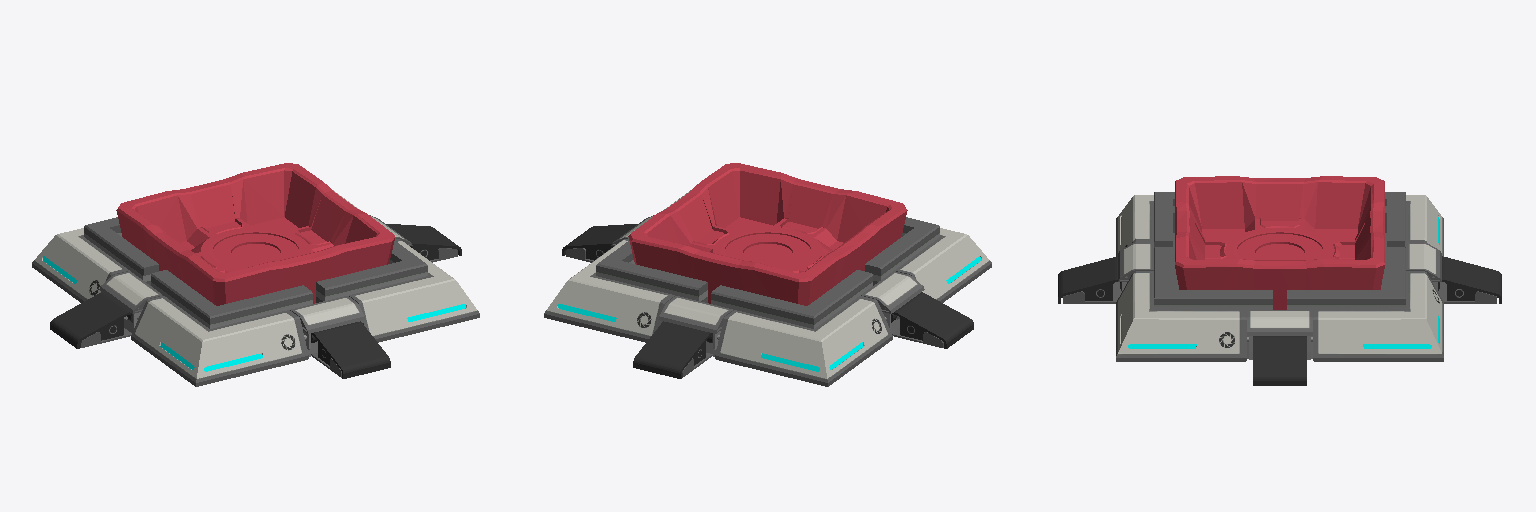
The picture shows the model from 3 angles: view 1: azimuth 30°, elevation 25°; view 2: azimuth 150°, elevation 25°; view 3: azimuth 270°, elevation 25°; orthographic projection.
Parts seen in each view (by area): view 1: Body.dmx/box_socket_model.dmx.mesh_0; view 2: Body.dmx/box_socket_model.dmx.mesh_0; view 3: Body.dmx/box_socket_model.dmx.mesh_0.
Boxes of the visible parts, x1,y1,x2,y2 form: Body.dmx/box_socket_model.dmx.mesh_0: [32, 163, 479, 386]; Body.dmx/box_socket_model.dmx.mesh_0: [544, 163, 991, 386]; Body.dmx/box_socket_model.dmx.mesh_0: [1058, 176, 1501, 385].
Size of the model in its own units: 104 by 18.75 by 104.
1 materials, 1 textured.